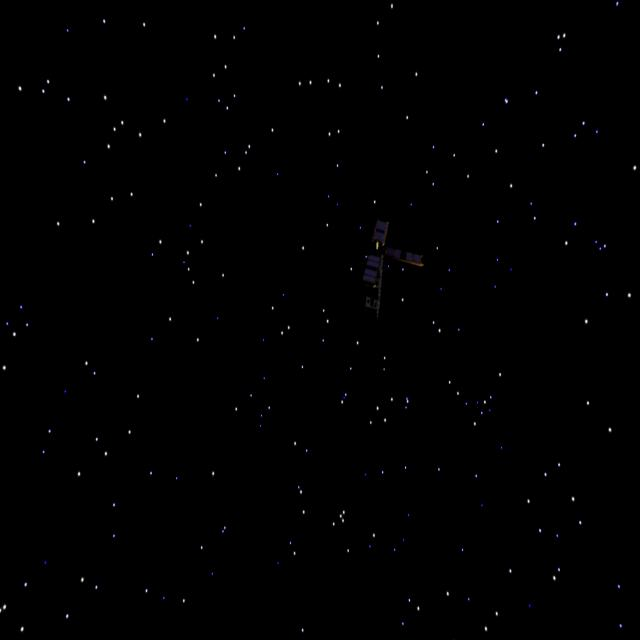satellite: (343, 219, 430, 304)
